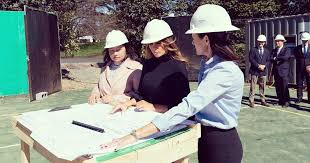Person_wearing_helmet: (184, 0, 235, 44), (98, 25, 132, 57)
